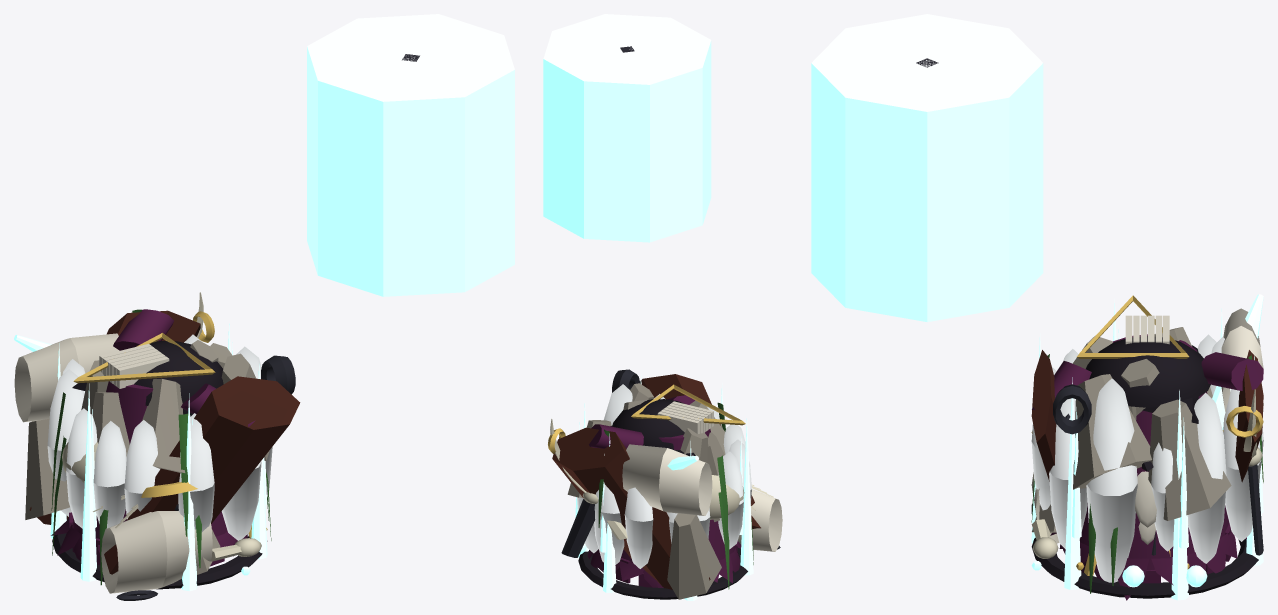
File: maitre-cimetiere.glb
3 views of the same model, side by side, from view 1: azimuth 30°, elevation 25°; view 2: azimuth 150°, elevation 25°; view 3: azimuth 270°, elevation 25° (orthographic). The views are drawn at different scales.
Visible parts, largest first — view 1: maitre_cimetiere_corps, maitre_cimetiere_lanterne, maitre_cimetiere_feux; view 2: maitre_cimetiere_corps, maitre_cimetiere_lanterne, maitre_cimetiere_feux; view 3: maitre_cimetiere_lanterne, maitre_cimetiere_corps, maitre_cimetiere_feux.
Boxes of the visible parts, left/top/right/bottom form: maitre_cimetiere_corps: left=14, top=292, right=300, bottom=600; maitre_cimetiere_lanterne: left=307, top=14, right=514, bottom=296; maitre_cimetiere_feux: left=50, top=323, right=267, bottom=591; maitre_cimetiere_corps: left=548, top=369, right=782, bottom=599; maitre_cimetiere_lanterne: left=543, top=14, right=711, bottom=242; maitre_cimetiere_feux: left=575, top=374, right=753, bottom=600; maitre_cimetiere_lanterne: left=811, top=14, right=1043, bottom=322; maitre_cimetiere_corps: left=1031, top=294, right=1263, bottom=600; maitre_cimetiere_feux: left=1031, top=299, right=1263, bottom=600.
Bounding box in the file's own units: 3.6 × 5.4 × 3.9.
